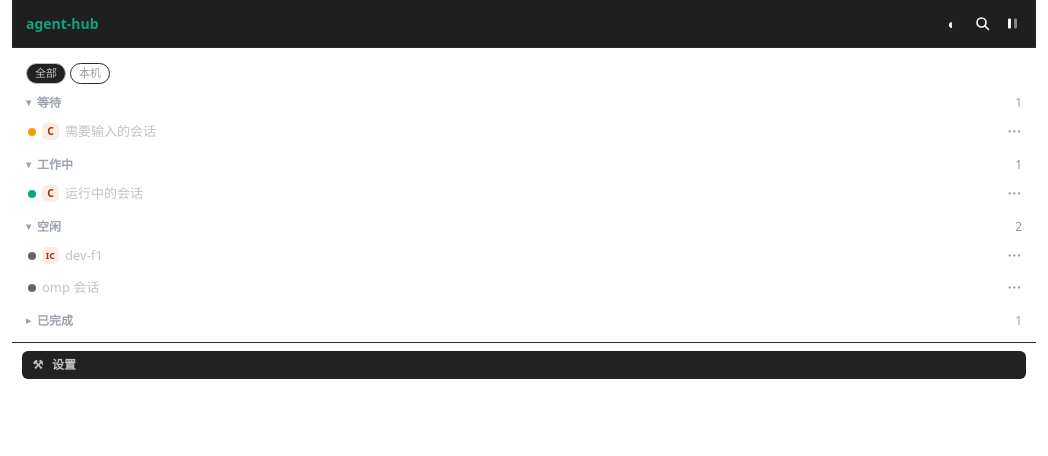
Scenario: 侧栏会话操作按驱动分流（ocr-review 中） › ACP 行菜单隐藏 claude 专属操作（Logs/Stop/Respawn），保留 工程便签/中断/删除会话（#45 移除通道）
Click the button named "omp 会话 更多操作" at (1014,288), box 1000,272 -> 1028,304
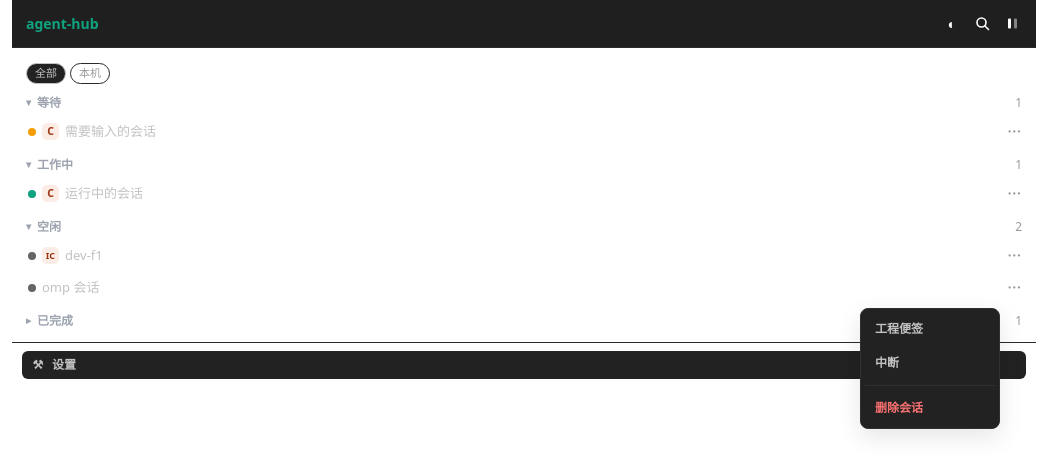
Expected: the menu item "删除会话" is shown, 865,392 -> 995,424
Expected: the menu item "工程便签" is shown, 865,312 -> 995,344
Expected: the menu item "中断" is shown, 865,346 -> 995,378
